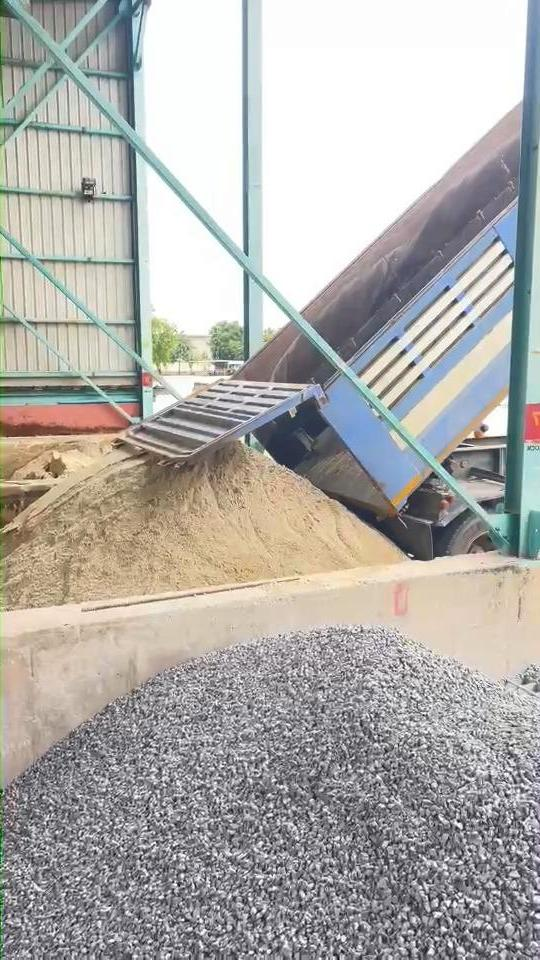gravel: (4, 628, 540, 959)
sand: (4, 444, 403, 608), (11, 449, 95, 481)
